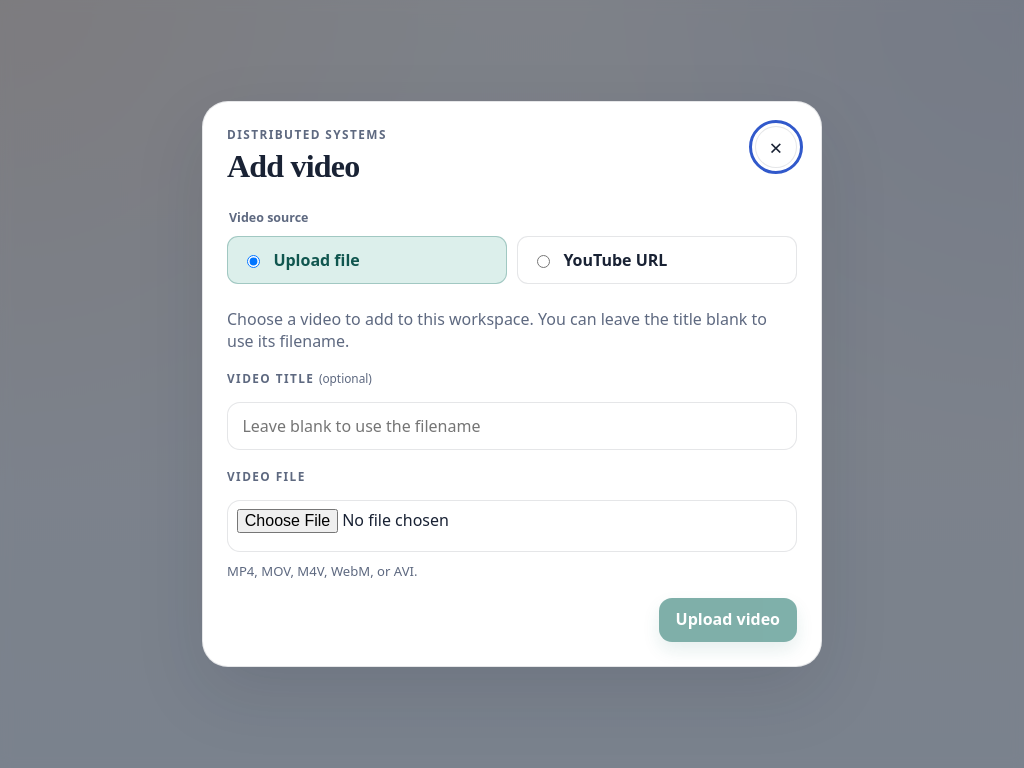
Add video source entry › defaults to Upload file and switches focus to the explicit YouTube form
Expected: the radio button labelled "Upload file" is checked, x1=247 y1=256 x2=260 y2=268
Expected: the field labelled "Video title (optional)" is shown, x1=227 y1=402 x2=797 y2=450
Click the radio button labelled "YouTube URL": (544, 262) x1=537 y1=256 x2=550 y2=268
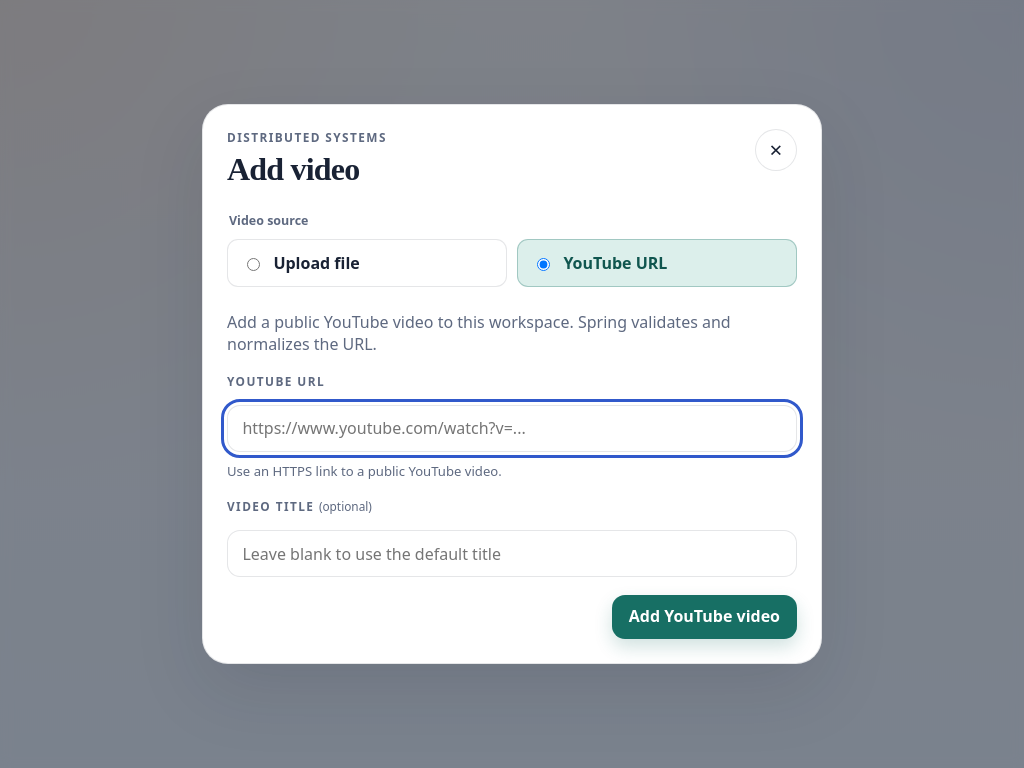
Now the button "Add YouTube video" is enabled, box x1=612 y1=595 x2=797 y2=639
